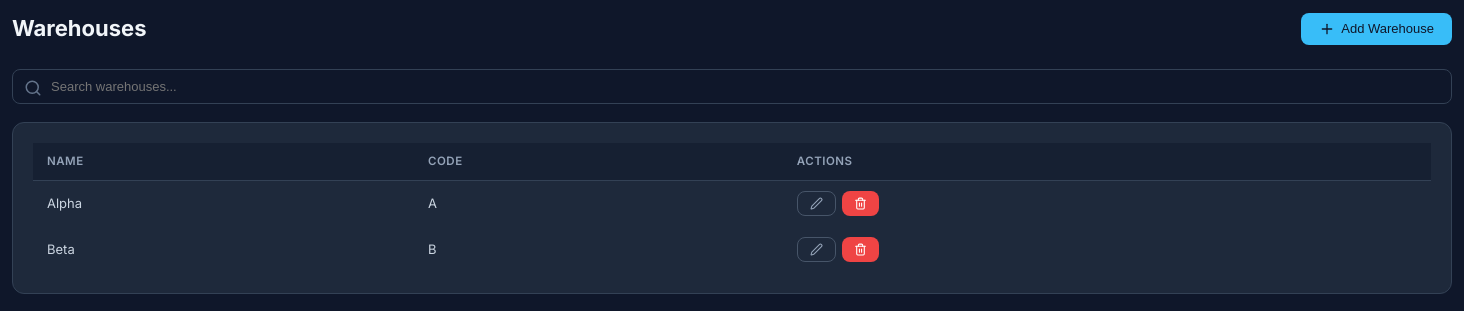
Scenario: CrudPage › filters rows with the search box
The image size is (1464, 311).
Expected: the text "Alpha" is shown, x1=33 y1=181 x2=414 y2=227
In the field labelled "Search warehouses": (732, 86) x1=12 y1=69 x2=1452 y2=104, type "bet"
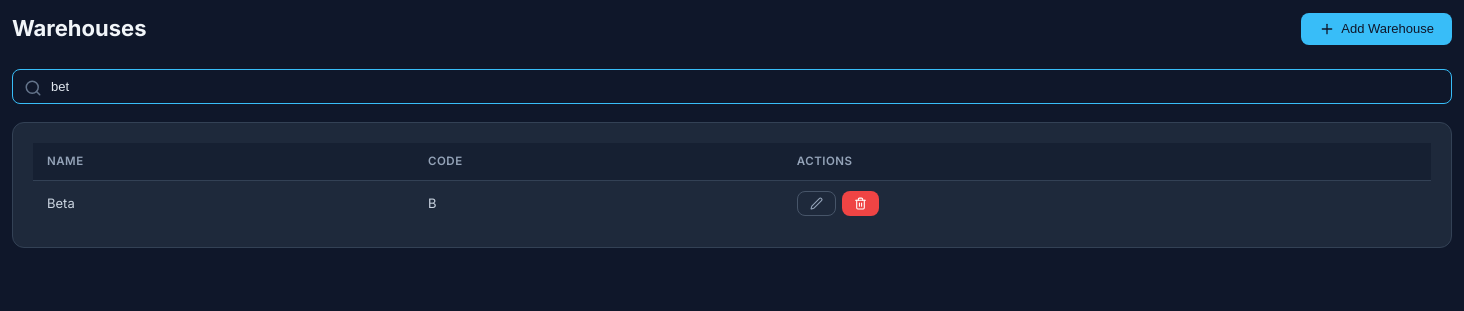
Expected: the text "Beta" is shown, x1=33 y1=181 x2=414 y2=227
Expected: the text "Alpha" is gone
